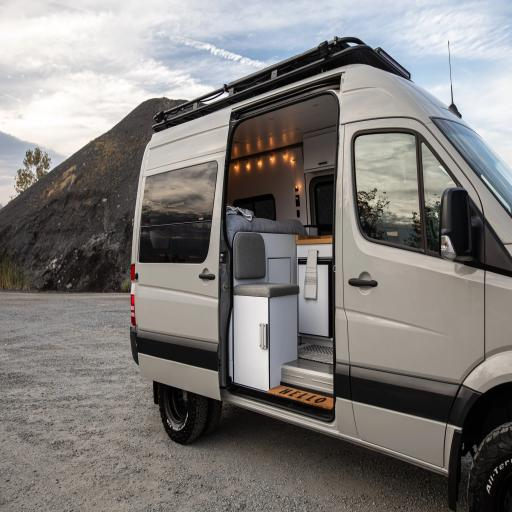van: (131, 37, 512, 510)
